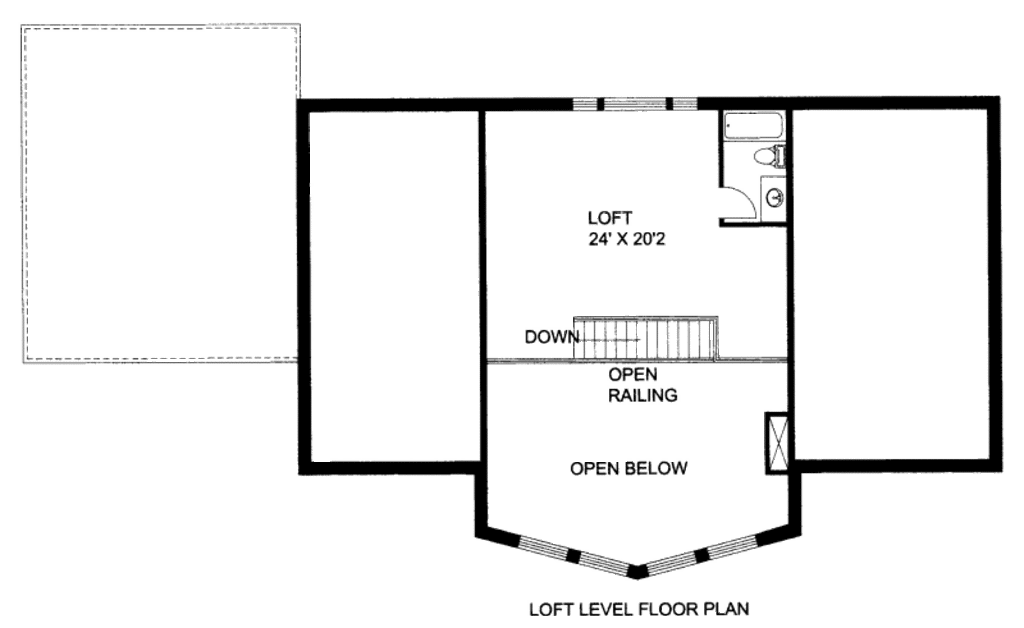door: (721, 183, 757, 225)
large_sink: (747, 139, 792, 177)
small_sink: (753, 168, 789, 224)
stairs: (560, 304, 726, 363)
tub: (719, 110, 791, 144)
windows: (518, 531, 762, 579), (576, 93, 700, 116)
